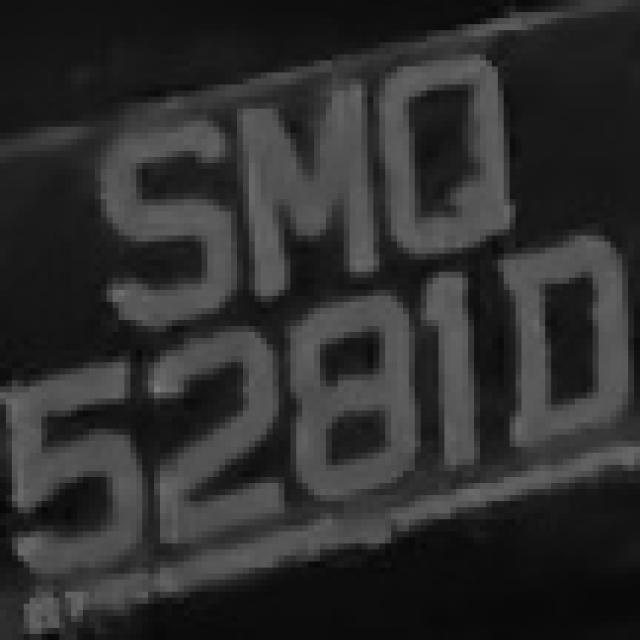1: (415, 254, 492, 483)
2: (118, 332, 296, 562)
5: (6, 332, 148, 598)
8: (284, 290, 426, 513)
D: (480, 241, 616, 477)
M: (213, 78, 380, 320)
Q: (362, 36, 516, 266)
S: (77, 109, 231, 338)
